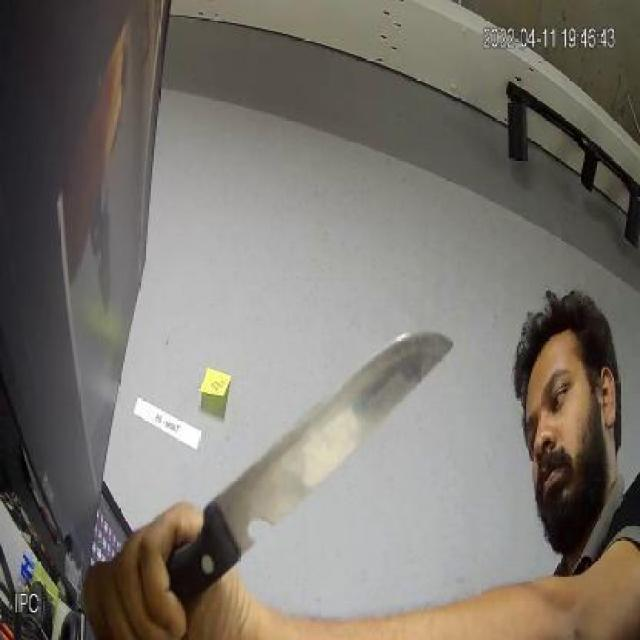-: (225, 334, 454, 525)
